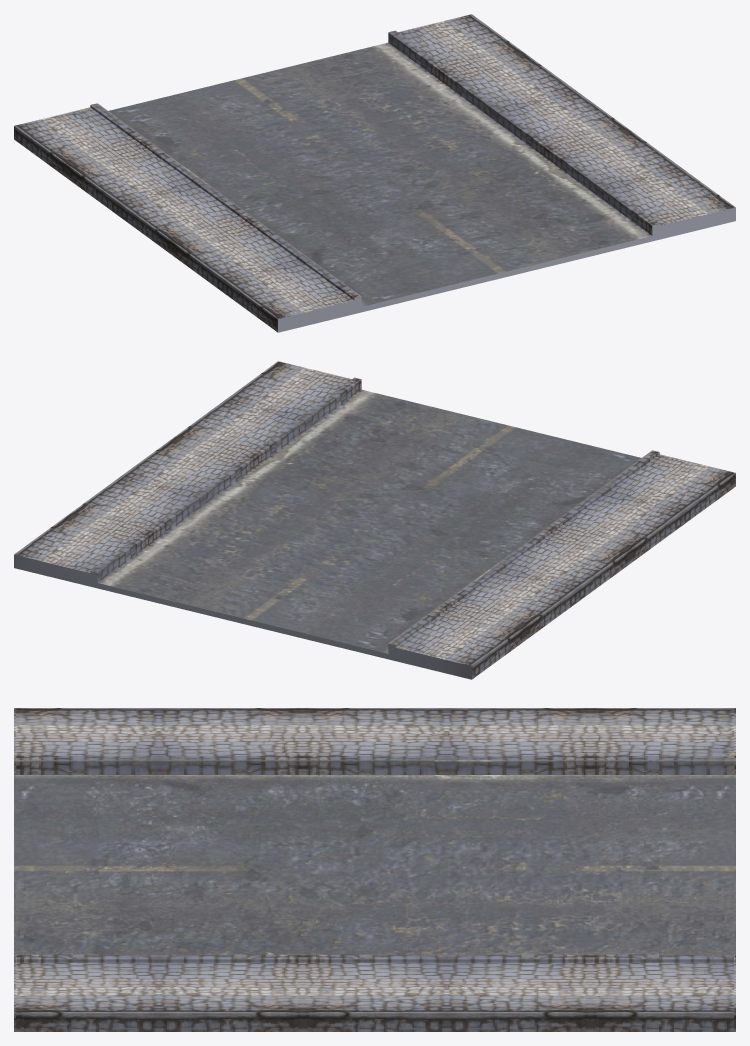
File: Road.fbx
3 renders of one model, top to bottom at view 1: azimuth 30°, elevation 25°; view 2: azimuth 150°, elevation 25°; view 3: azimuth 270°, elevation 25°, orthographic. The views are drawn at different scales.
Parts seen in each view (by area): view 1: Cube; view 2: Cube; view 3: Cube.
Boxes of the visible parts, x1=… form: Cube: x1=14, y1=14, x2=735, y2=332; Cube: x1=14, y1=361, x2=735, y2=679; Cube: x1=14, y1=708, x2=735, y2=1031.
Size of the model in its own units: 300 by 9.9 by 300.
